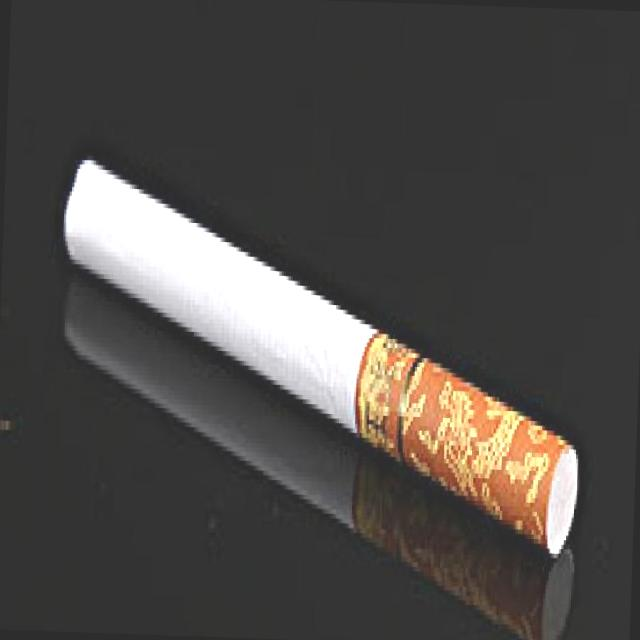cigarette: (44, 146, 592, 558)
